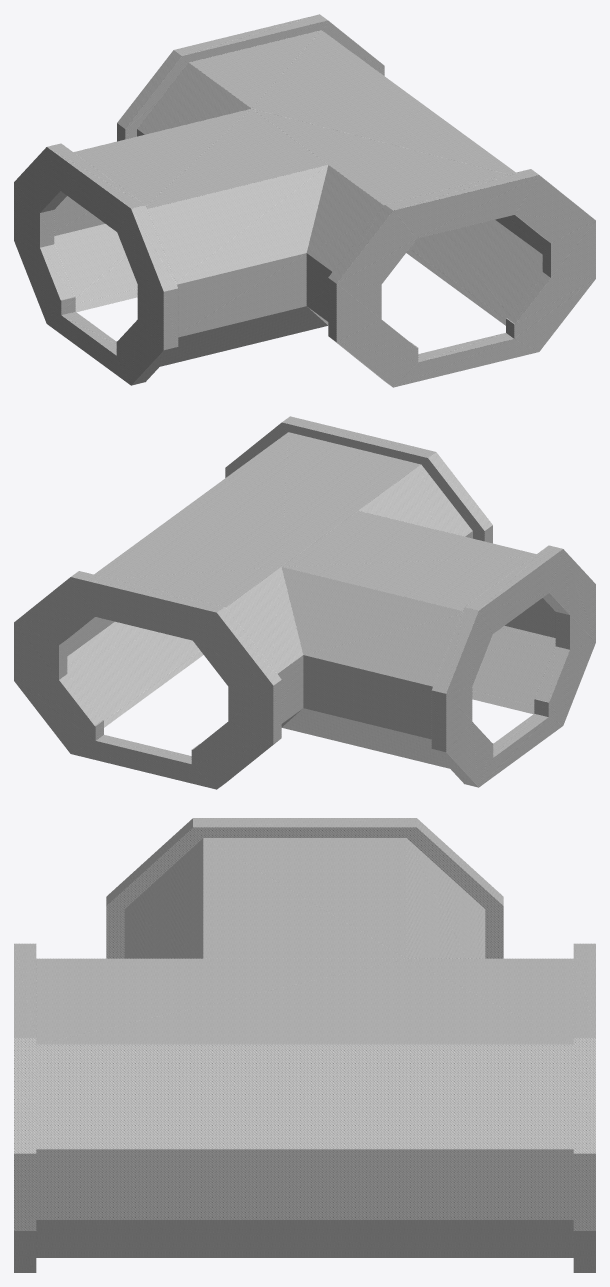
Rendered from 3Exit.fbx.
3 views of the same model, one above another, from view 1: azimuth 30°, elevation 25°; view 2: azimuth 150°, elevation 25°; view 3: azimuth 270°, elevation 25° (orthographic). The views are drawn at different scales.
Parts seen in each view (by area): view 1: Group1; view 2: Group1; view 3: Group1.
Part boxes in pixels (x1=…): Group1: x1=14, y1=14, x2=595, y2=387; Group1: x1=14, y1=416, x2=595, y2=789; Group1: x1=14, y1=818, x2=595, y2=1272.
Bounding box in the file's own units: 8.43 × 3.59 × 8.06.
